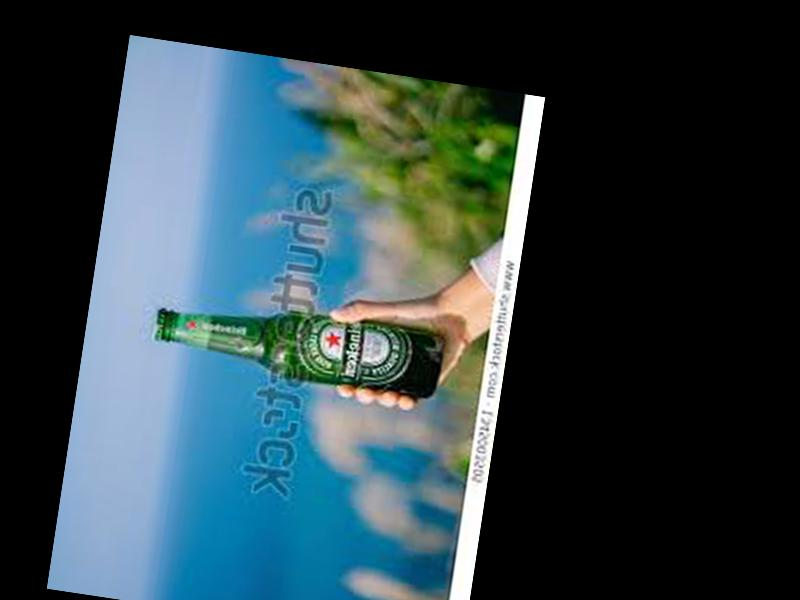Beer: (149, 287, 442, 399)
